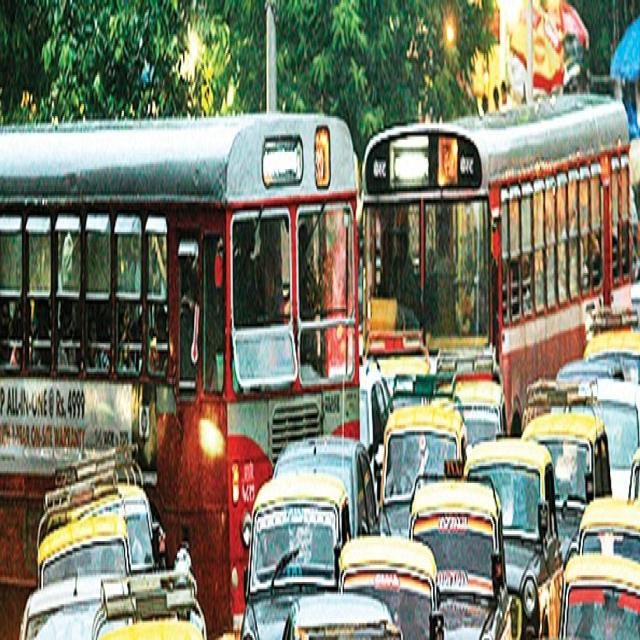bus: (0, 113, 359, 636), (361, 95, 630, 435)
